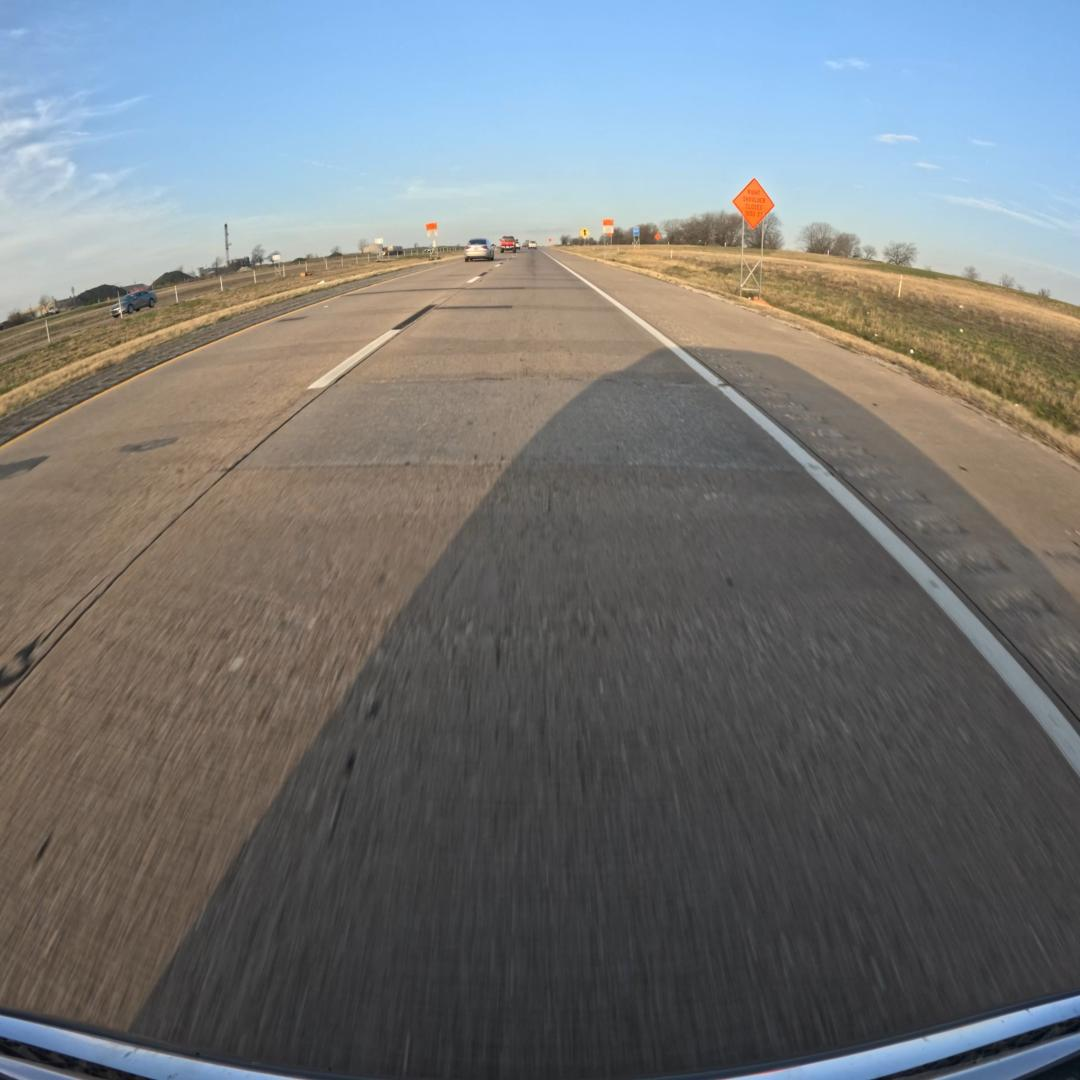lane0: (0, 253, 1080, 1077)
lane1: (0, 261, 501, 707)
